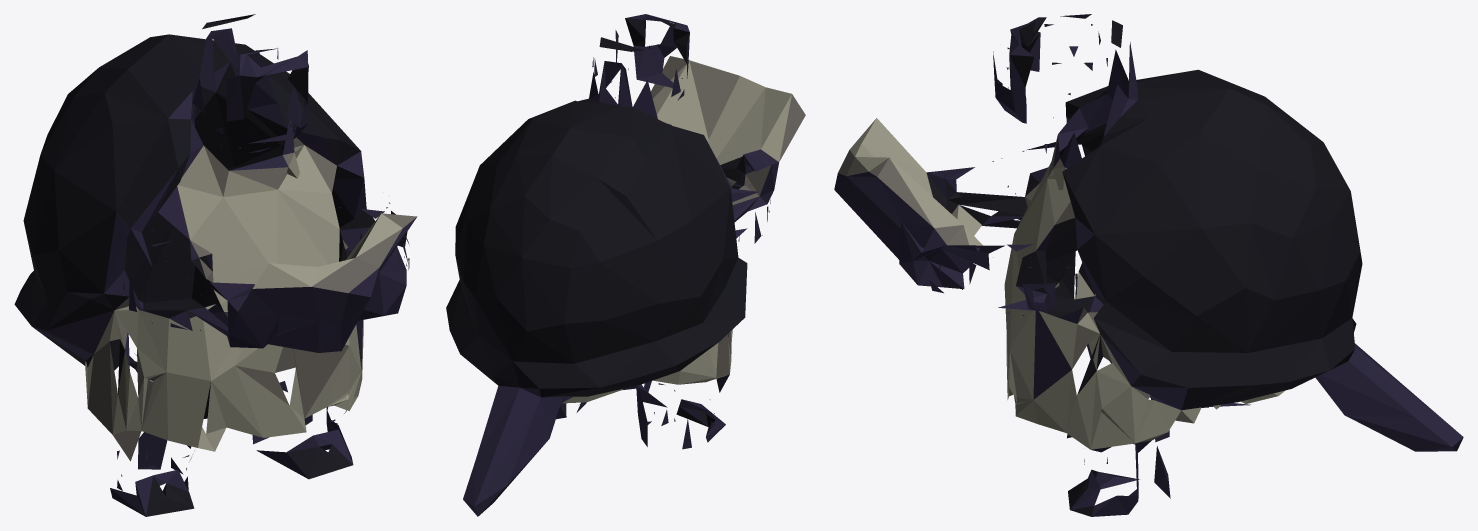
3 views of the same model, side by side, from view 1: azimuth 30°, elevation 25°; view 2: azimuth 150°, elevation 25°; view 3: azimuth 270°, elevation 25° (orthographic). The views are drawn at different scales.
Parts seen in each view (by area): view 1: lion-1500; view 2: lion-1500; view 3: lion-1500.
Part boxes in pixels (x1,y1,x2,y2): lion-1500: (14, 14, 417, 516); lion-1500: (446, 14, 805, 516); lion-1500: (834, 14, 1463, 516).
Bounding box in the file's own units: 0.5773 × 0.7643 × 0.9933.
